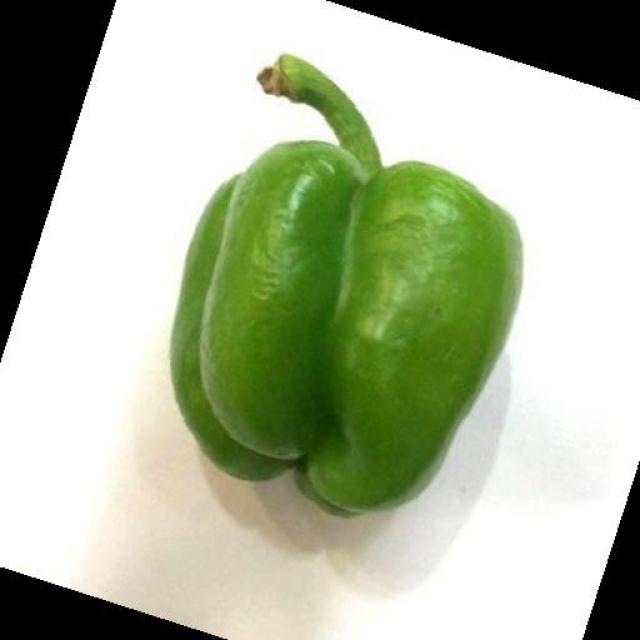Fresh_Capsicum: (185, 41, 518, 514)
